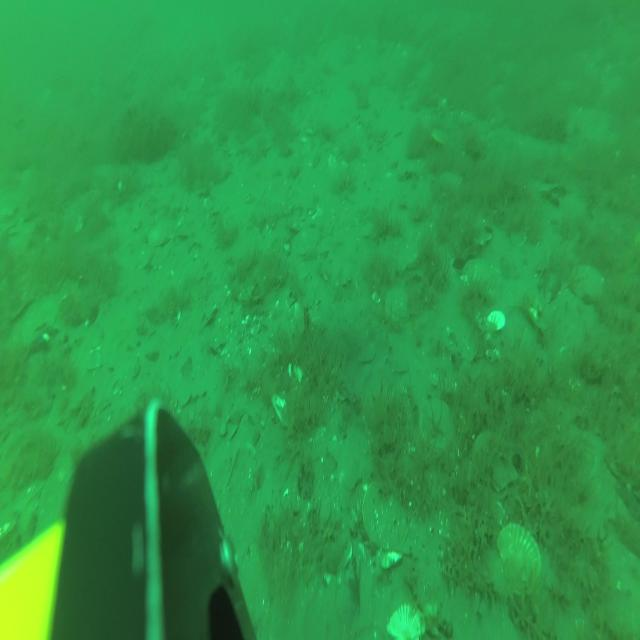scallop: (361, 478, 410, 554), (496, 521, 543, 597), (471, 424, 519, 494), (384, 600, 427, 640), (570, 258, 607, 304), (459, 256, 496, 297), (383, 283, 416, 324), (461, 210, 495, 249), (145, 215, 181, 249), (360, 205, 390, 239), (293, 224, 322, 258)
